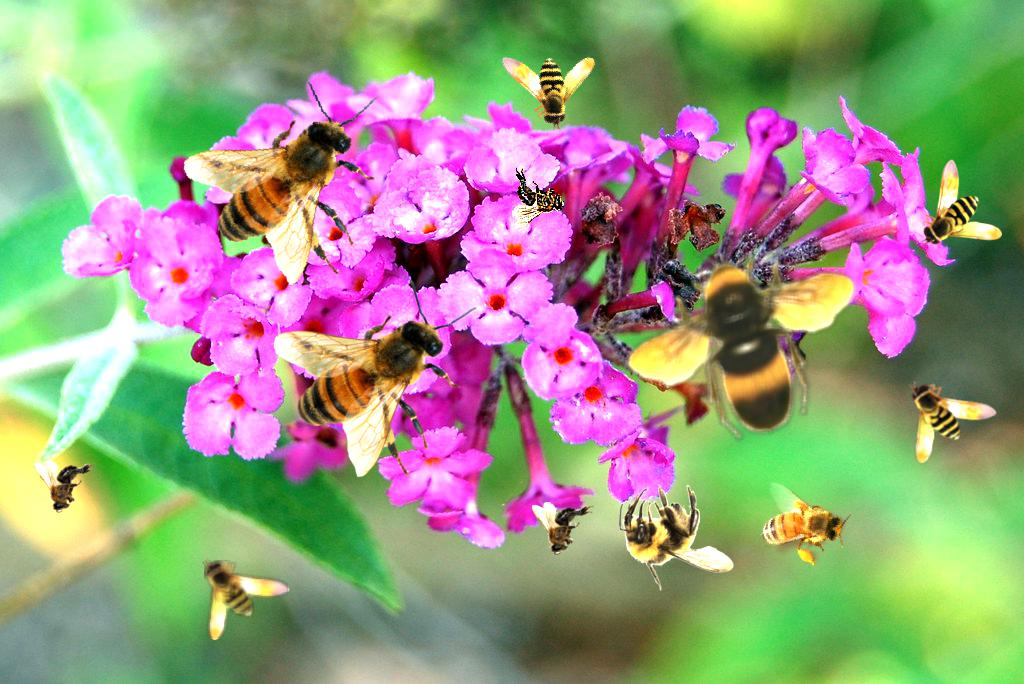Bee: (605, 187, 897, 478), (171, 68, 408, 300), (273, 278, 477, 477), (484, 16, 604, 134), (619, 484, 734, 591), (744, 476, 858, 577), (202, 558, 290, 640), (909, 381, 997, 463), (920, 159, 1002, 247), (512, 167, 565, 229), (532, 502, 594, 555), (34, 460, 96, 513)
